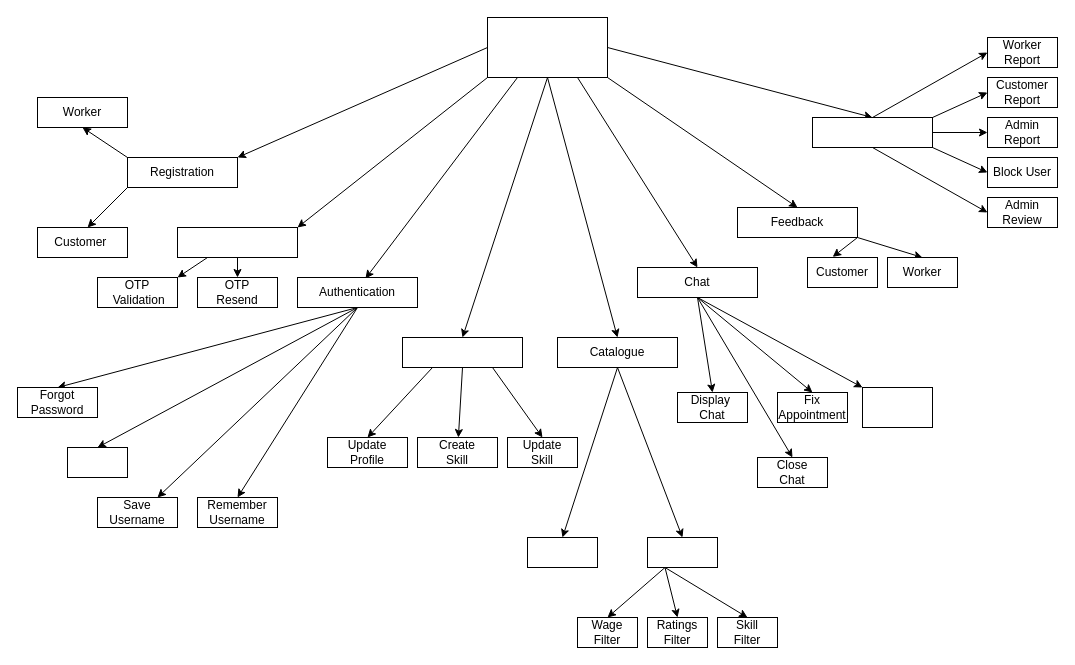
This 1075x665 diagram has some shape labels left out. The shapes that lost their labels are listed below. From the top down, each one's centre as x and y in pixels, then its label:
At [547,47]: "GoHelp".
At [872,132]: "Block and Report Generation".
At [237,242]: "Data Verification and Email Notification".
At [462,352]: "Profile and Skill Tab".
At [897,407]: "Change Appointment time".
At [97,462]: "Login".
At [562,552]: "Display Catalogue".
At [682,552]: "Filter".
